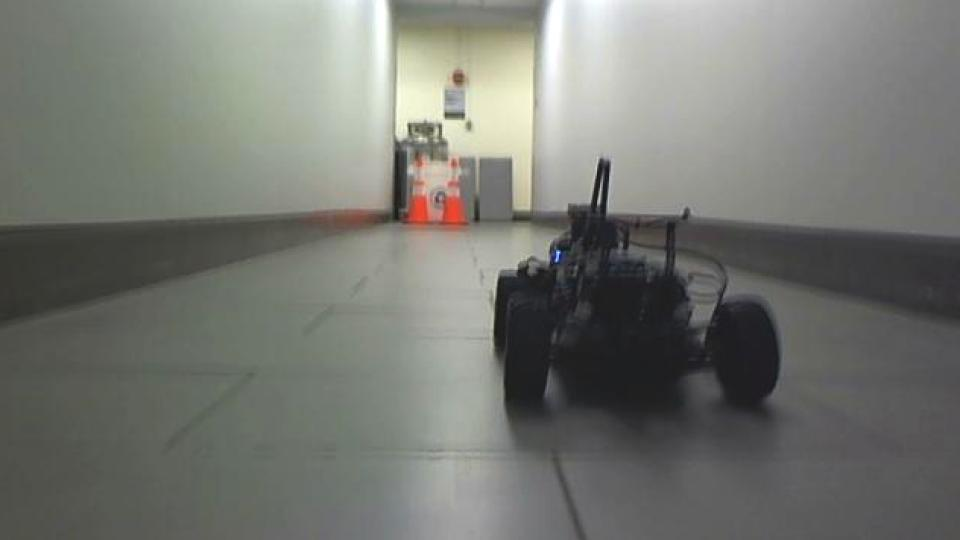car: (488, 155, 784, 414)
